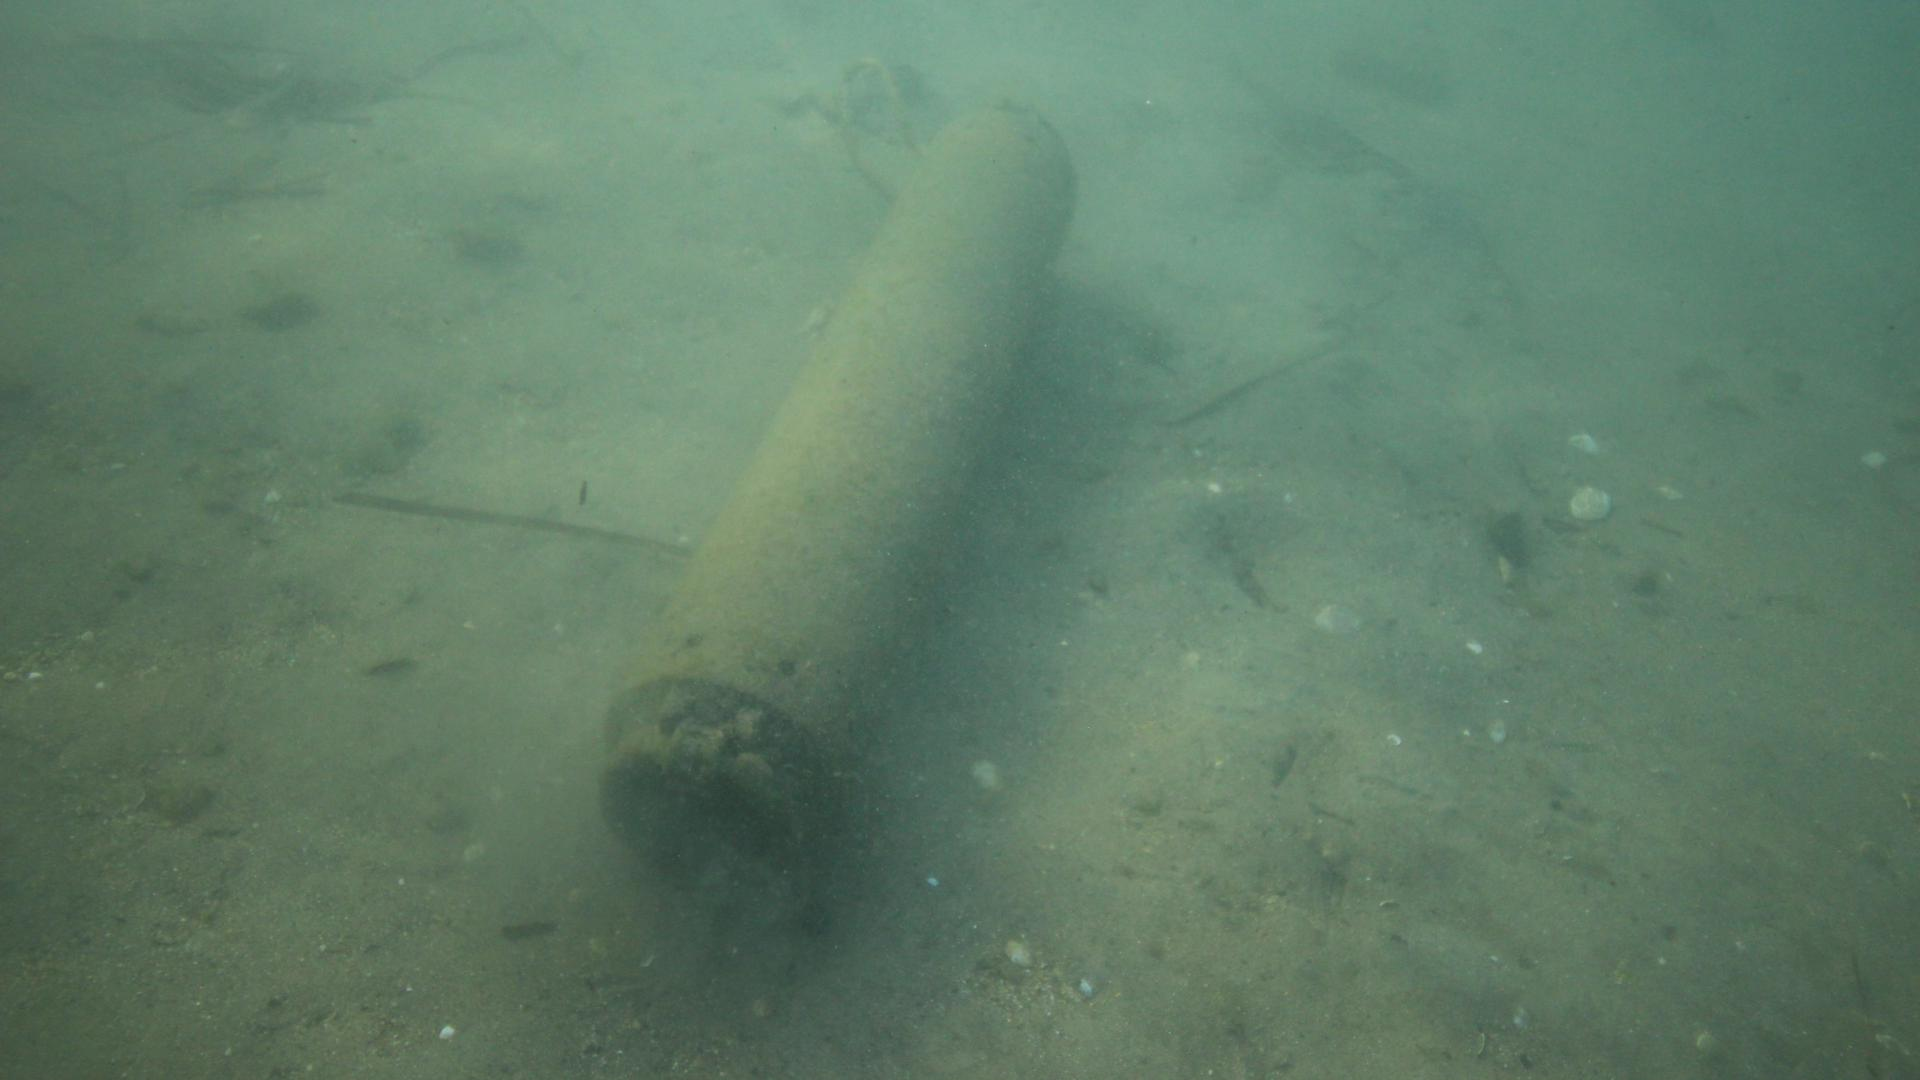eel fish trap: (593, 98, 1077, 920)
rope: (829, 54, 928, 211)
